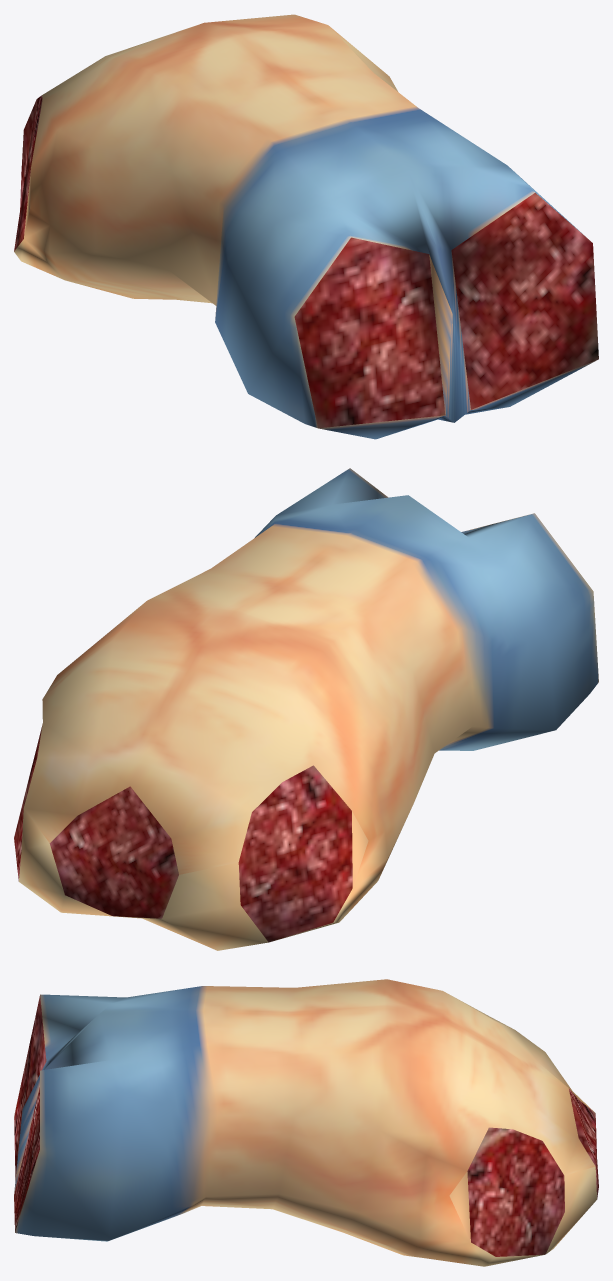
Rendered from Male_Torso.fbx.
3 renders of one model, top to bottom at view 1: azimuth 30°, elevation 25°; view 2: azimuth 150°, elevation 25°; view 3: azimuth 270°, elevation 25°, orthographic. The views are drawn at different scales.
Parts seen in each view (by area): view 1: Body.013; view 2: Body.013; view 3: Body.013.
Part boxes in pixels (x1,y1,x2,y2): Body.013: (14,14,598,439); Body.013: (14,468,598,950); Body.013: (14,979,598,1266).
Bounding box in the file's own units: 0.1986 × 0.1459 × 0.3521.
